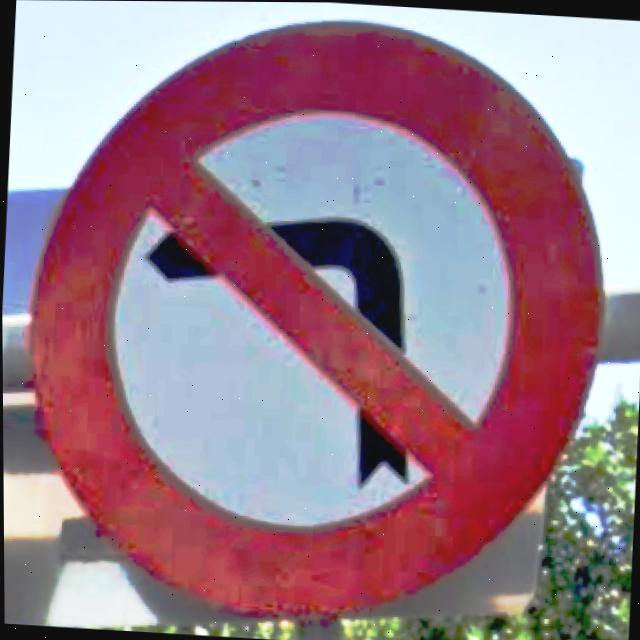noturnleft: (27, 20, 605, 623)
